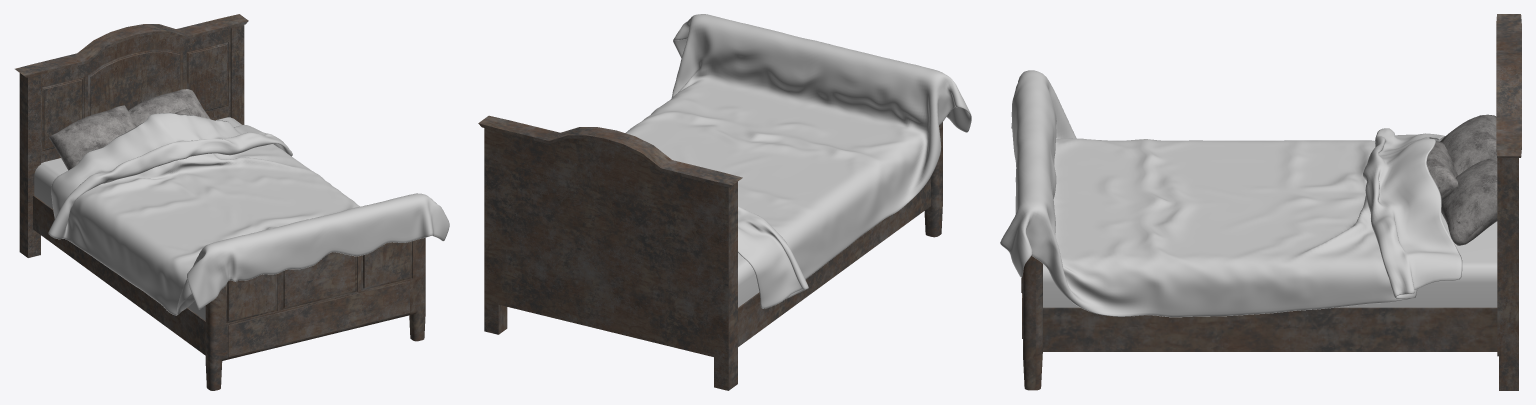
The picture shows the model from 3 angles, left to right: view 1: azimuth 30°, elevation 25°; view 2: azimuth 150°, elevation 25°; view 3: azimuth 270°, elevation 25°; orthographic projection. The views are drawn at different scales.
Parts seen in each view (by area): view 1: Duvet, Bed, Pillow3, Pillow2, Mattress; view 2: Bed, Duvet, Mattress; view 3: Duvet, Bed, Mattress, Pillow2, Pillow3, Pillow.
Boxes of the visible parts, x1,y1,x2,y2 form: Duvet: [48, 112, 449, 315]; Bed: [15, 14, 425, 390]; Pillow3: [49, 105, 136, 170]; Pillow2: [128, 89, 210, 125]; Mattress: [34, 117, 241, 320]; Bed: [478, 115, 942, 390]; Duvet: [625, 14, 971, 308]; Mattress: [738, 253, 759, 307]; Duvet: [1000, 70, 1462, 317]; Bed: [1021, 14, 1521, 390]; Mattress: [1043, 213, 1497, 307]; Pillow2: [1441, 158, 1497, 245]; Pillow3: [1440, 114, 1497, 175]; Pillow: [1426, 141, 1458, 200].
Bounding box in the file's own units: 2.84 × 2.06 × 3.8.
